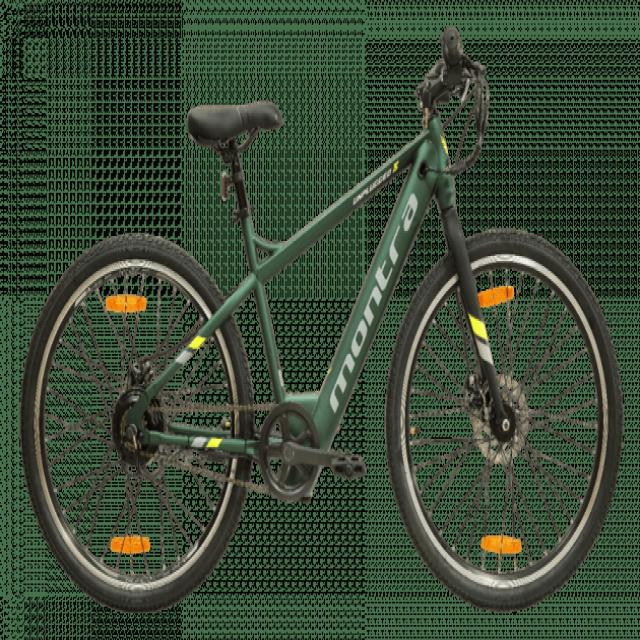bicycle: (21, 27, 624, 611)
